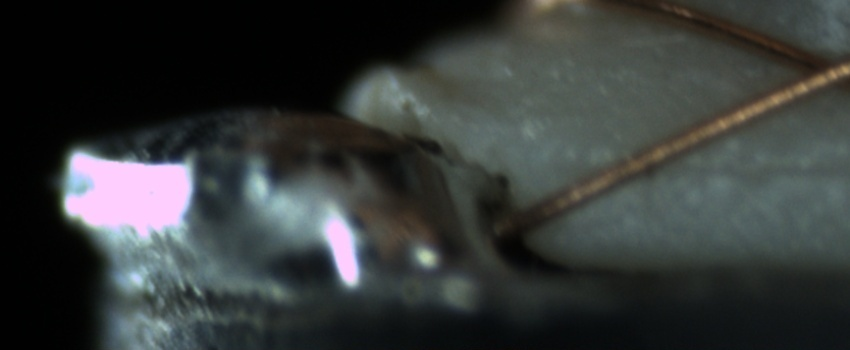CL: (772, 38, 848, 101)
DL: (610, 133, 847, 202)
